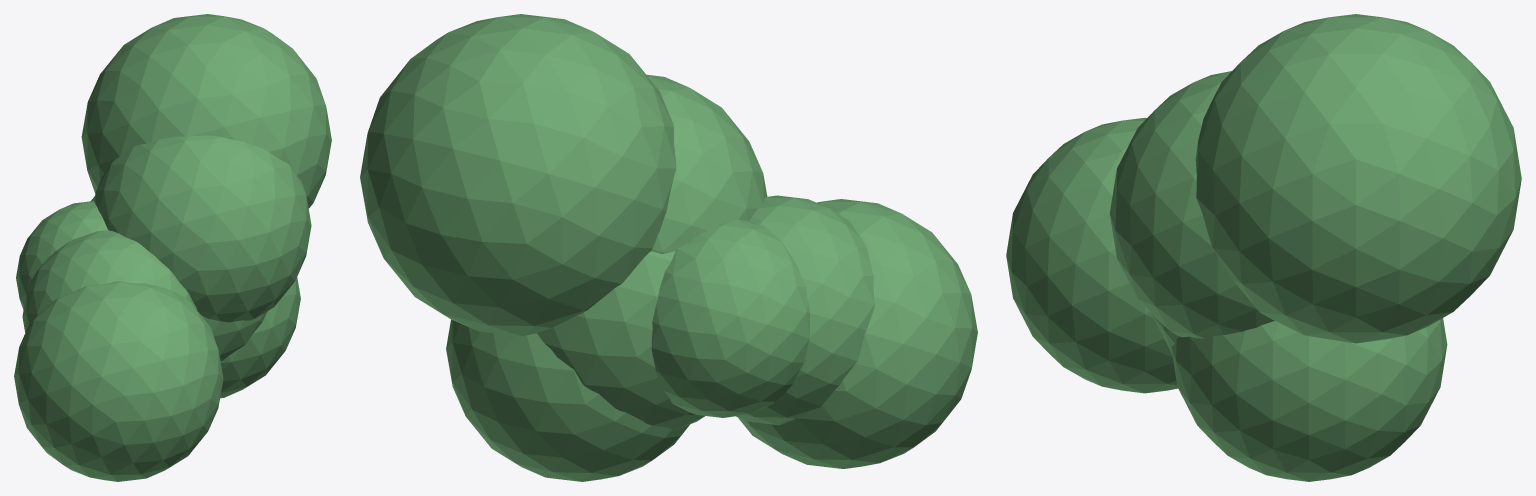
File: bush.glb
The picture shows the model from 3 angles, left to right: view 1: azimuth 30°, elevation 25°; view 2: azimuth 150°, elevation 25°; view 3: azimuth 270°, elevation 25°; orthographic projection. The views are drawn at different scales.
Visible parts, largest first — view 1: bush_0_4, bush_0_2, bush_0_0, bush_0_6, bush_0_5, bush_0_1, bush_0_3; view 2: bush_0_0, bush_0_4, bush_0_1, bush_0_5, bush_0_6, bush_0_3, bush_0_2; view 3: bush_0_0, bush_0_5, bush_0_4, bush_0_2.
Part boxes in pixels (left/top/right/bottom): bush_0_4: left=14, top=281, right=223, bottom=481; bush_0_2: left=94, top=135, right=311, bottom=322; bush_0_0: left=81, top=14, right=331, bottom=208; bush_0_6: left=22, top=230, right=196, bottom=332; bush_0_5: left=220, top=277, right=300, bottom=398; bush_0_1: left=16, top=201, right=108, bottom=309; bush_0_3: left=91, top=196, right=267, bottom=361; bush_0_0: left=360, top=14, right=676, bottom=335; bush_0_4: left=738, top=199, right=977, bottom=468; bush_0_1: left=651, top=219, right=809, bottom=417; bush_0_5: left=446, top=319, right=689, bottom=481; bush_0_6: left=736, top=195, right=874, bottom=425; bush_0_3: left=537, top=251, right=704, bottom=430; bush_0_2: left=646, top=74, right=767, bottom=253; bush_0_0: left=1195, top=14, right=1521, bottom=343; bush_0_5: left=1171, top=318, right=1447, bottom=481; bush_0_4: left=1006, top=117, right=1177, bottom=393; bush_0_2: left=1109, top=71, right=1274, bottom=338.
Bounding box in the file's own units: 1.12 × 1.02 × 1.03.
